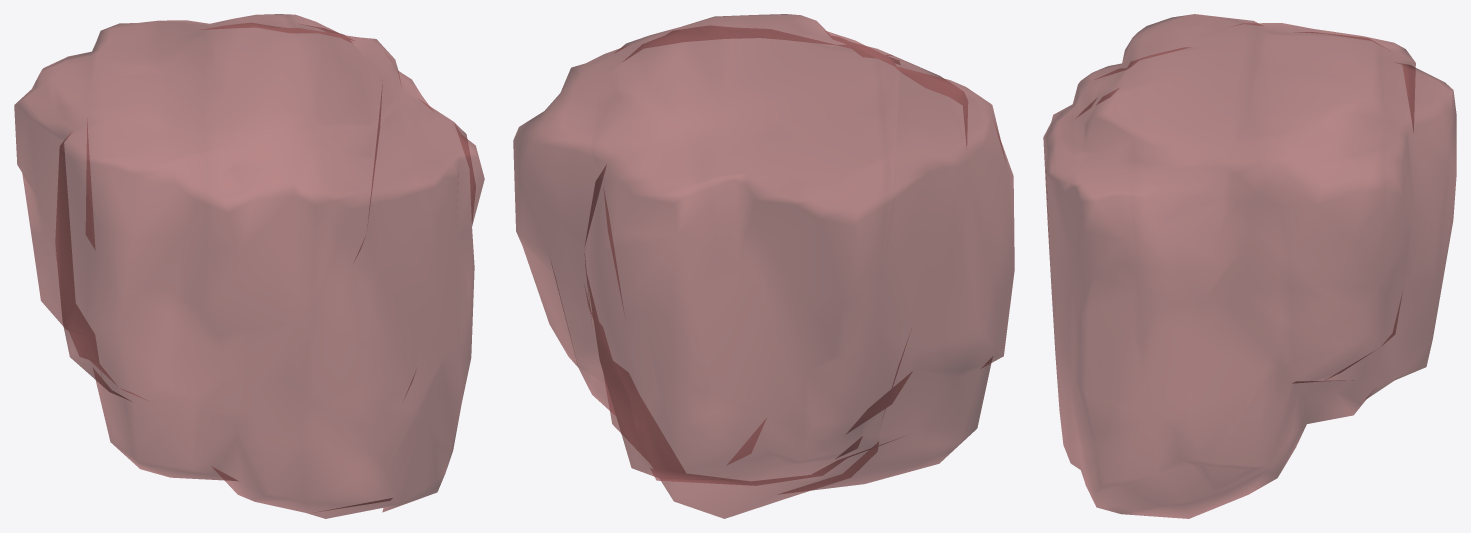
Rendered from SM_Cliff_Medium_01_Complex_Collision.fbx.
3 views of the same model, side by side, from view 1: azimuth 30°, elevation 25°; view 2: azimuth 150°, elevation 25°; view 3: azimuth 270°, elevation 25° (orthographic). The views are drawn at different scales.
Visible parts, largest first — view 1: SM_Cliff_Medium_01_Complex_Collision; view 2: SM_Cliff_Medium_01_Complex_Collision; view 3: SM_Cliff_Medium_01_Complex_Collision.
Part boxes in pixels (box(x1,y1,x2,y2)): SM_Cliff_Medium_01_Complex_Collision: box(14, 14, 484, 518); SM_Cliff_Medium_01_Complex_Collision: box(513, 14, 1014, 518); SM_Cliff_Medium_01_Complex_Collision: box(1043, 14, 1456, 518).
Bounding box in the file's own units: 1267 × 1374 × 1295.
